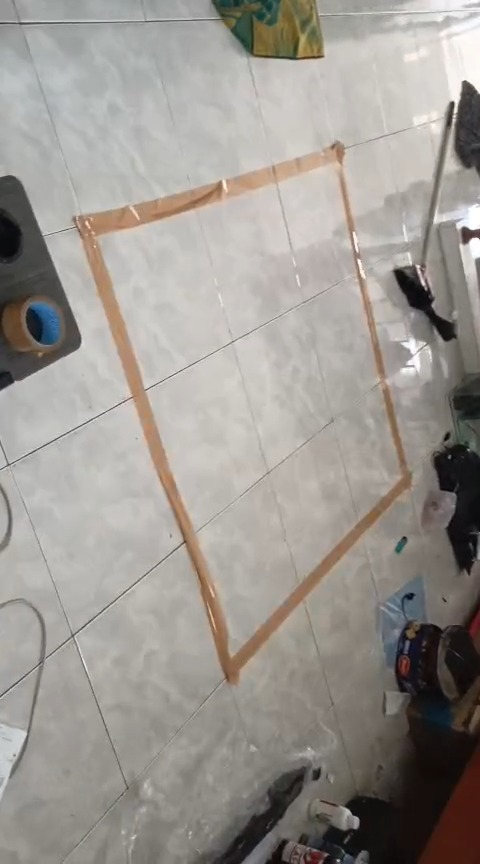floor marking: (75, 142, 410, 682)
